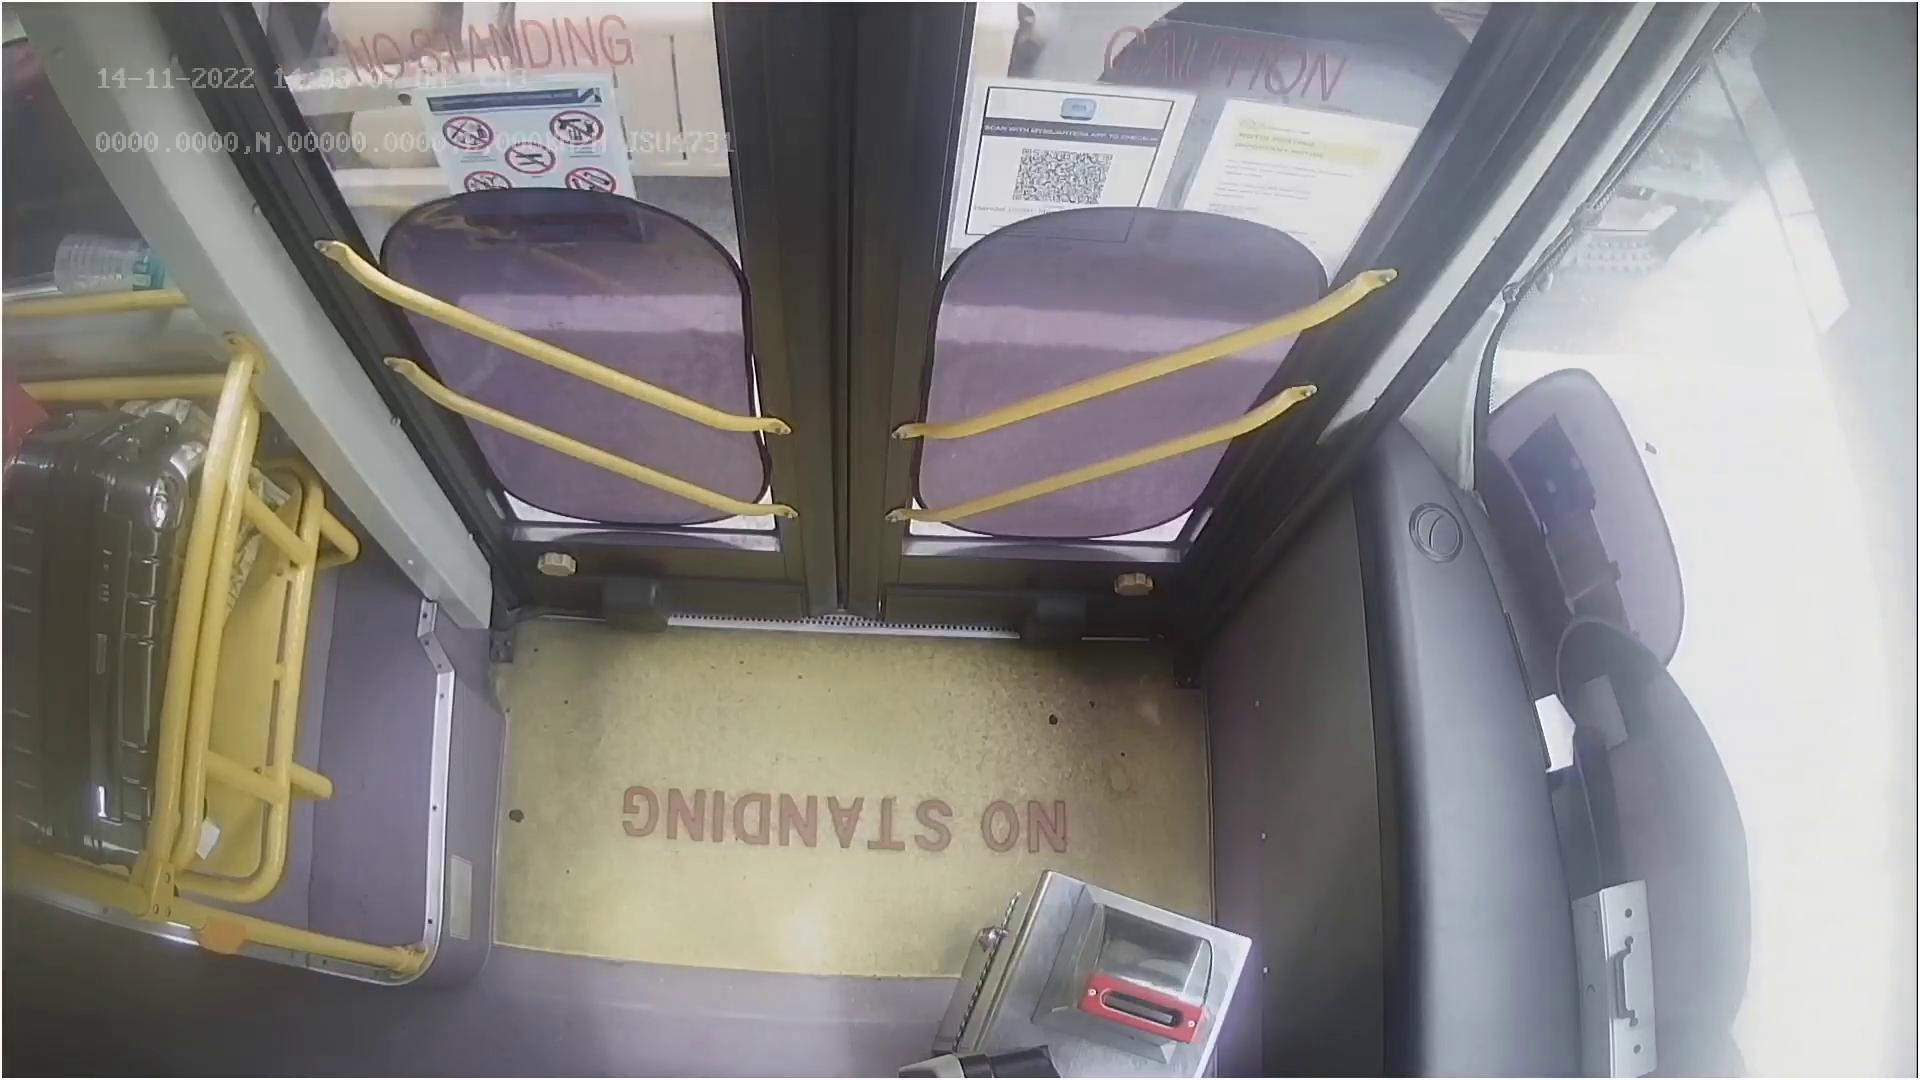close: (284, 0, 1433, 178)
